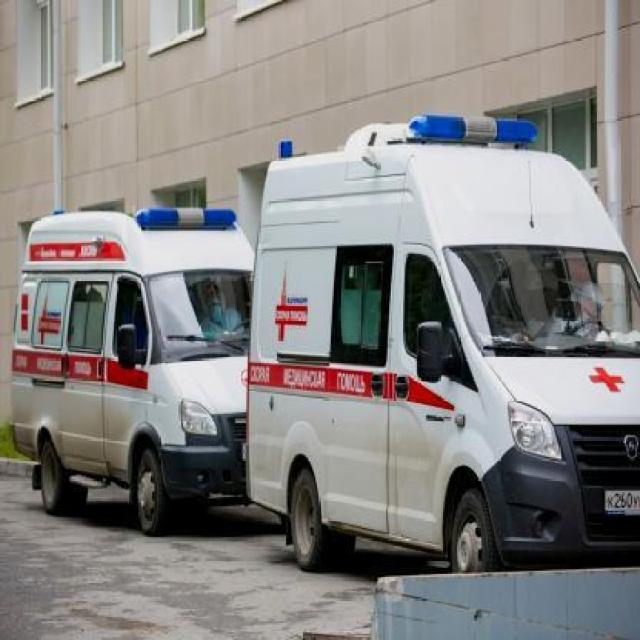Ambulance: (250, 118, 638, 572), (14, 182, 275, 518)
